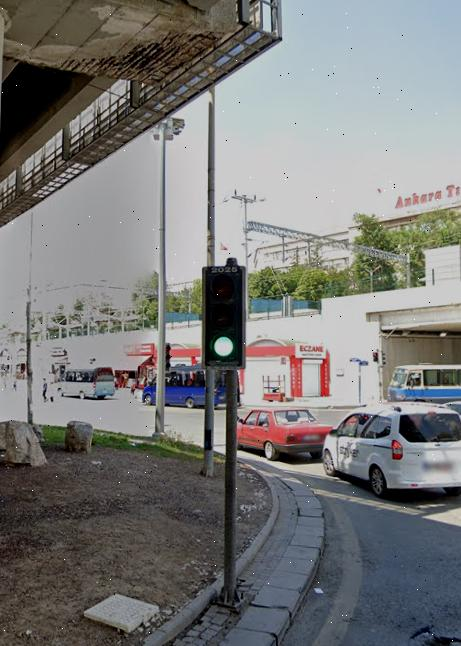greenlight: (204, 266, 242, 361)
